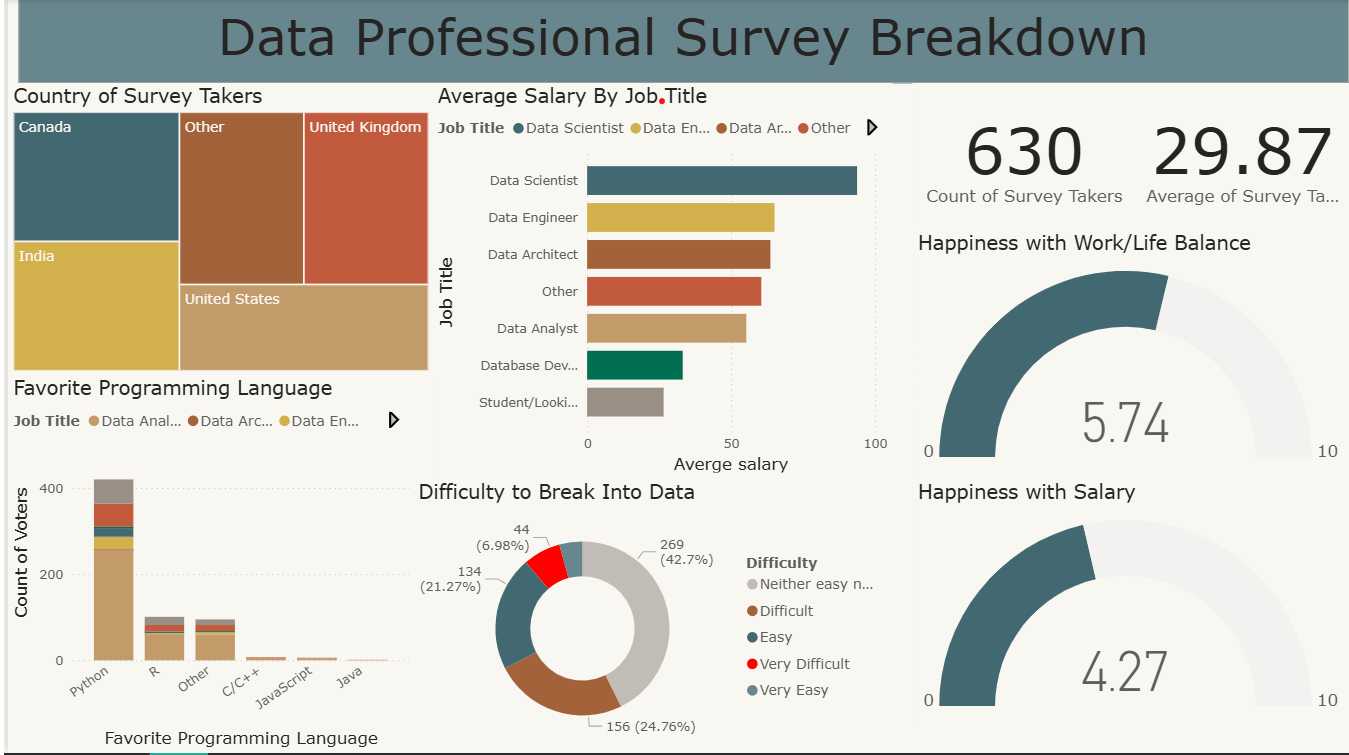

What the dashboard file says about the page in this screenshot:
{"tool":"powerbi","page":{"name":"Data Survey","canvas":[1280,720],"ordinal":0},"visuals":[{"type":"textbox","box":[10.1,0,1269.9,80.5],"z":0},{"type":"card","fields":{"Values":["Count(Data Professional Survey.Unique ID)"]},"box":[864,80.6,213.1,139.7],"z":1000},{"type":"card","fields":{"Values":["Avg(Data Professional Survey.Q10 - Current Age)"]},"box":[1077.1,80.6,203,139.7],"z":2000},{"type":"barChart","title":"Average Salary By Job Title","fields":{"Category":["Data Professional Survey.Q1 - Which Title Best Fits your Current Role?.1"],"Y":["Avg(Data Professional Survey.Averge salary)"],"Series":["Data Professional Survey.Q1 - Which Title Best Fits your Current Role?.1"]},"box":[406.1,80.6,439.2,377.3],"z":3000},{"type":"columnChart","title":"Favorite Programming Language","fields":{"Category":["Data Professional Survey.Q5 - Favorite Programming Language.1"],"Y":["CountNonNull(Data Professional Survey.Unique ID)"],"Series":["Data Professional Survey.Q1 - Which Title Best Fits your Current Role?.1"]},"box":[0,360,387.4,360],"z":4000},{"type":"treemap","title":"Country of Survey Takers","fields":{"Group":["Data Professional Survey.Q11 - Which Country do you live in?.1"],"Values":["Count(Data Professional Survey.Q11 - Which Country do you live in?.1)"]},"box":[0,80.6,406.1,279.4],"z":5000},{"type":"gauge","title":"Happiness with Work/Life Balance","fields":{"Y":["Avg(Data Professional Survey.Q6 - How Happy are you in your Current Position with the following? (Work/Life Balance))"],"MinValue":["Min(Data Professional Survey.Q6 - How Happy are you in your Current Position with the following? (Work/Life Balance))"],"MaxValue":["Max(Data Professional Survey.Q6 - How Happy are you in your Current Position with the following? (Work/Life Balance))"]},"box":[864,220.3,416.2,237.6],"z":6000},{"type":"gauge","title":"Happiness with Salary","fields":{"Y":["Avg(Data Professional Survey.Q6 - How Happy are you in your Current Position with the following? (Salary))"],"MinValue":["Min(Data Professional Survey.Q6 - How Happy are you in your Current Position with the following? (Salary))"],"MaxValue":["Max(Data Professional Survey.Q6 - How Happy are you in your Current Position with the following? (Salary))1"]},"box":[864,457.9,416.2,237.6],"z":7000},{"type":"donutChart","title":"Difficulty to Break Into Data","fields":{"Category":["Data Professional Survey.Q7 - How difficult was it for you to break into Data?"],"Y":["CountNonNull(Data Professional Survey.Q7 - How difficult was it for you to break into Data?)"]},"box":[387.4,457.9,457.9,262.1],"z":8000}]}

Visuals, with their boxes in screenshot pixels (x1, y1, x2, y2), scaled from the page's 1280x720 canvas onto the 1349x755 screenshot:
textbox: BBox(11, 0, 1348, 84)
card - Count(Data Professional Survey.Unique ID): BBox(911, 85, 1135, 231)
card - Avg(Data Professional Survey.Q10 - Current Age): BBox(1135, 85, 1348, 231)
"Average Salary By Job Title" barChart: BBox(428, 85, 891, 480)
"Favorite Programming Language" columnChart: BBox(0, 378, 408, 754)
"Country of Survey Takers" treemap: BBox(0, 85, 428, 378)
"Happiness with Work/Life Balance" gauge: BBox(911, 231, 1348, 480)
"Happiness with Salary" gauge: BBox(911, 480, 1348, 729)
"Difficulty to Break Into Data" donutChart: BBox(408, 480, 891, 754)
